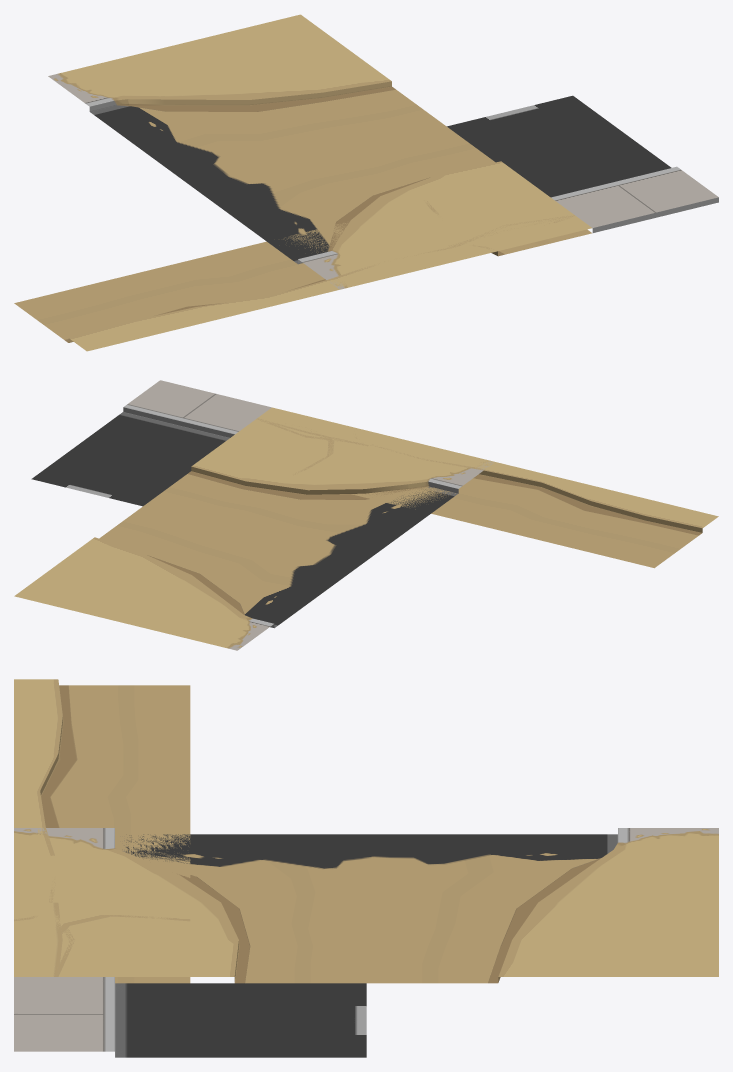
File: RoadMilitary.gltf
The picture shows the model from 3 angles, top to bottom: view 1: azimuth 30°, elevation 25°; view 2: azimuth 150°, elevation 25°; view 3: azimuth 270°, elevation 25°; orthographic projection. The views are drawn at different scales.
Parts seen in each view (by area): view 1: SM_Env_Road_Dirt_Town_Transition_01, SM_Env_Road_Dirt_Long_01, SM_Env_Road_straight_mesh_01, SM_Env_Road_Dirt_Bend_01, SM_Env_Road_Dirt_Corner_01; view 2: SM_Env_Road_Dirt_Town_Transition_01, SM_Env_Road_Dirt_Long_01, SM_Env_Road_straight_mesh_01, SM_Env_Road_Dirt_Short_01, SM_Env_Road_Dirt_Bend_01; view 3: SM_Env_Road_Dirt_Town_Transition_01, SM_Env_Road_Dirt_Long_01, SM_Env_Road_straight_mesh_01, SM_Env_Road_Dirt_Bend_01, SM_Env_Road_Dirt_Short_01.
Part boxes in pixels (x1,y1,x2,y2): SM_Env_Road_Dirt_Town_Transition_01: (48,14,591,289); SM_Env_Road_Dirt_Long_01: (14,215,588,351); SM_Env_Road_straight_mesh_01: (447,95,718,232); SM_Env_Road_Dirt_Bend_01: (394,200,591,257); SM_Env_Road_Dirt_Corner_01: (469,229,591,256); SM_Env_Road_Dirt_Town_Transition_01: (14,408,493,650); SM_Env_Road_Dirt_Long_01: (258,409,718,568); SM_Env_Road_straight_mesh_01: (31,380,271,506); SM_Env_Road_Dirt_Short_01: (256,408,383,445); SM_Env_Road_Dirt_Bend_01: (258,407,371,481); SM_Env_Road_Dirt_Town_Transition_01: (14,828,718,983); SM_Env_Road_Dirt_Long_01: (14,679,190,982); SM_Env_Road_straight_mesh_01: (14,977,366,1057); SM_Env_Road_Dirt_Bend_01: (14,902,190,983); SM_Env_Road_Dirt_Short_01: (19,902,189,983).
Size of the model in its own units: 0.25 by 0.00195 by 0.2.
Materials: 1 (1 with a texture image).
